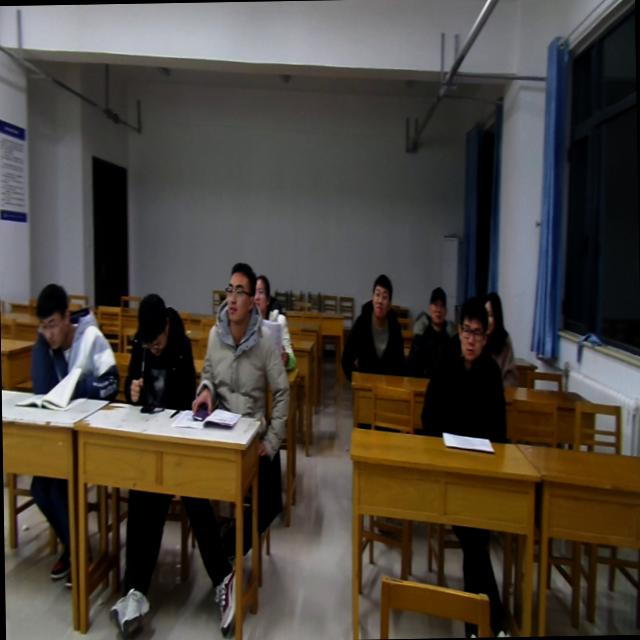bow: (23, 284, 118, 398)
down: (30, 278, 74, 356), (132, 287, 174, 366)
lookup: (218, 257, 255, 329), (454, 296, 488, 363), (365, 267, 395, 320), (424, 282, 450, 328), (480, 290, 502, 338), (253, 271, 272, 314)
sit: (187, 259, 290, 422), (417, 296, 511, 440), (121, 288, 198, 408), (338, 273, 406, 382), (404, 284, 460, 378), (248, 268, 297, 371), (479, 290, 518, 385)
